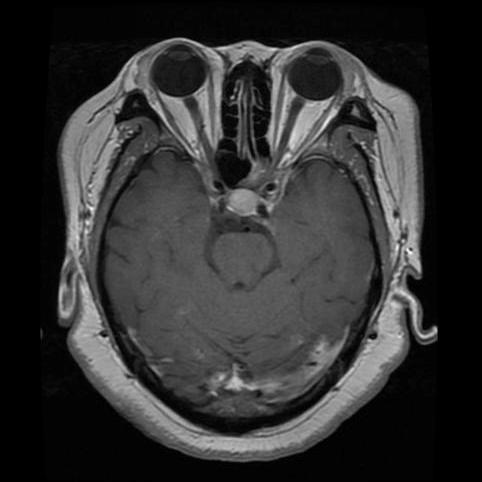Tumour-Pituitary: (200, 175, 288, 228)
